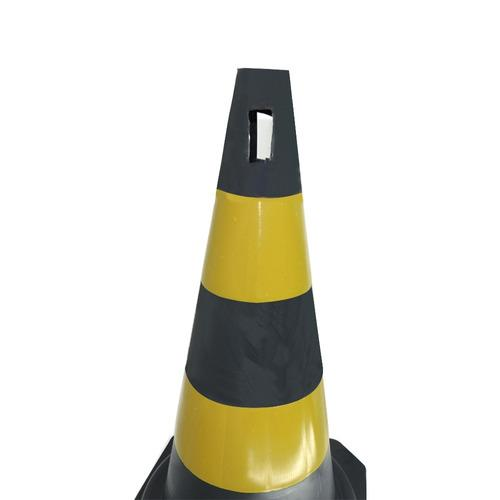traffic_cone: (124, 66, 369, 500)
